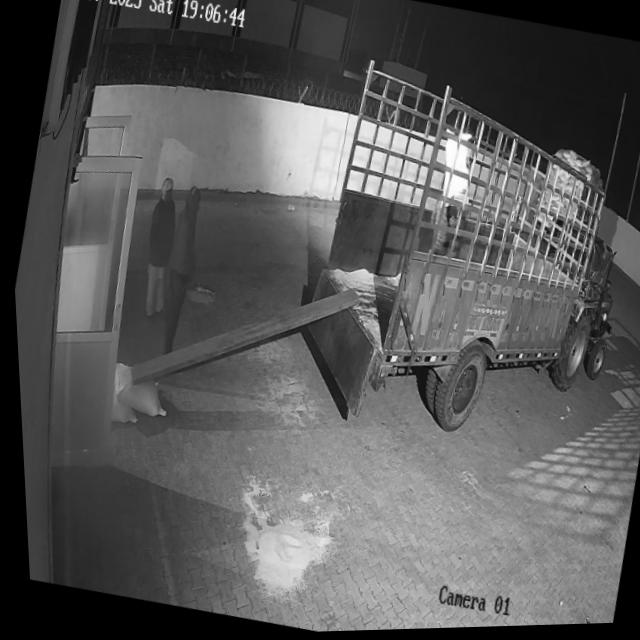sack: (103, 361, 169, 420)
